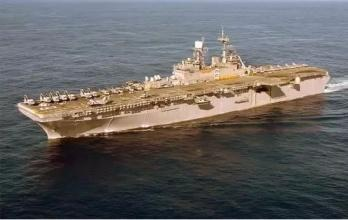warship: (14, 29, 343, 140)
